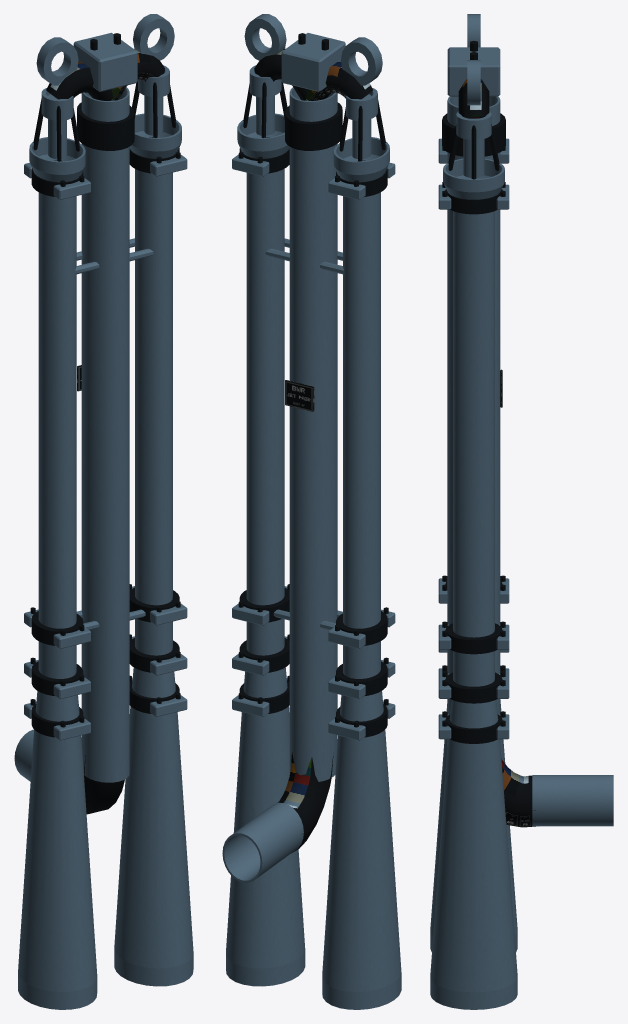
The model's file is compact.obj.
3 views of the same model, side by side, from view 1: azimuth 30°, elevation 25°; view 2: azimuth 150°, elevation 25°; view 3: azimuth 270°, elevation 25° (orthographic). The views are drawn at different scales.
Parts seen in each view (by area): view 1: jet_pump; view 2: jet_pump; view 3: jet_pump.
Part boxes in pixels (x1,y1,x2,y2): jet_pump: (14,14,193,1009); jet_pump: (222,14,401,1009); jet_pump: (430,14,613,1009).
Bounding box in the file's own units: 0.1604 × 0.9 × 0.1606.
